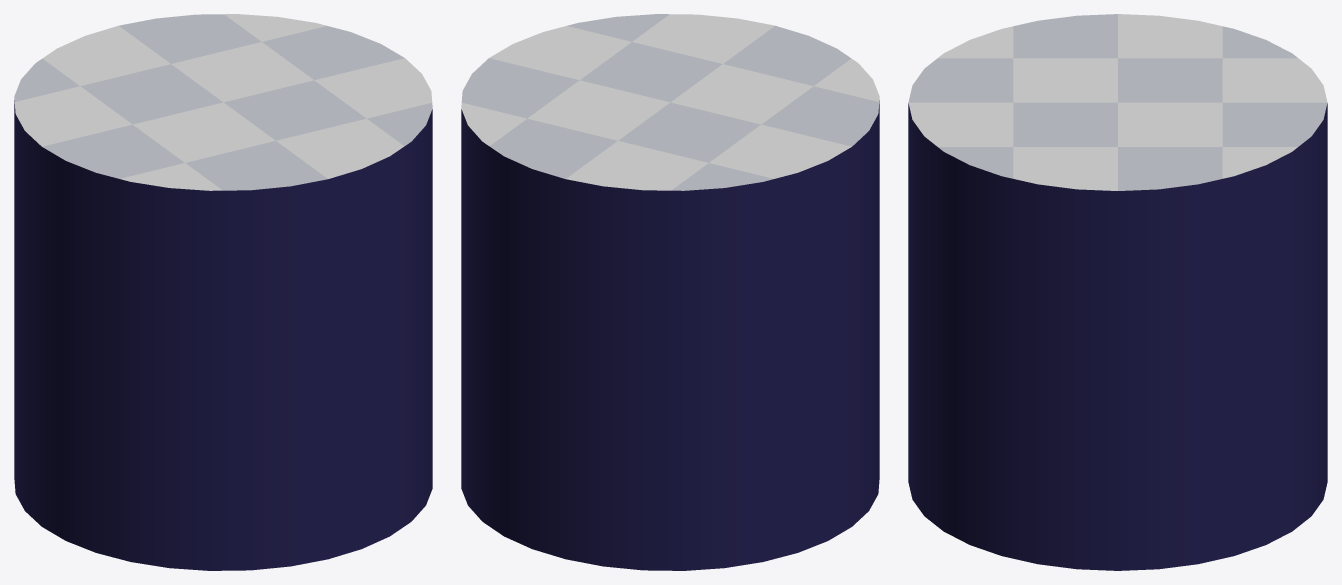
File: cyl_white.glb
3 views of the same model, side by side, from view 1: azimuth 30°, elevation 25°; view 2: azimuth 150°, elevation 25°; view 3: azimuth 270°, elevation 25° (orthographic).
Visible parts, largest first — view 1: Body; view 2: Body; view 3: Body.
Part boxes in pixels (<box>): Body: <box>14,14,432,570</box>; Body: <box>461,14,879,570</box>; Body: <box>908,14,1327,570</box>.
Size of the model in its own units: 1 by 1 by 1.
